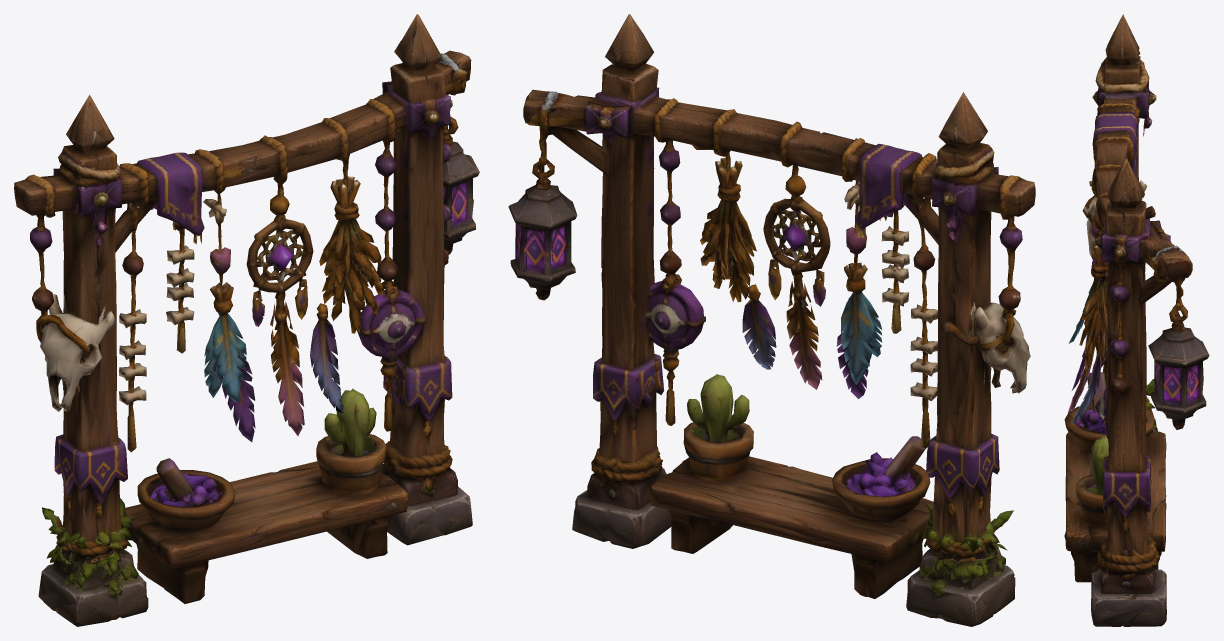
The model's file is exhibicion_de_joyeria_de_fantasia.glb.
The picture shows the model from 3 angles, left to right: view 1: azimuth 30°, elevation 25°; view 2: azimuth 150°, elevation 25°; view 3: azimuth 270°, elevation 25°; orthographic projection. The views are drawn at different scales.
Parts seen in each view (by area): view 1: exhibicion_de_joyeria_de_fantasia; view 2: exhibicion_de_joyeria_de_fantasia; view 3: exhibicion_de_joyeria_de_fantasia.
Part boxes in pixels (bbox=[...]): exhibicion_de_joyeria_de_fantasia: bbox=[14, 14, 479, 626]; exhibicion_de_joyeria_de_fantasia: bbox=[508, 14, 1035, 626]; exhibicion_de_joyeria_de_fantasia: bbox=[1064, 14, 1209, 626].
Size of what is drawn, in the model's own units: 1.19 by 1.2 by 0.3483.
1 material, 1 textured.
